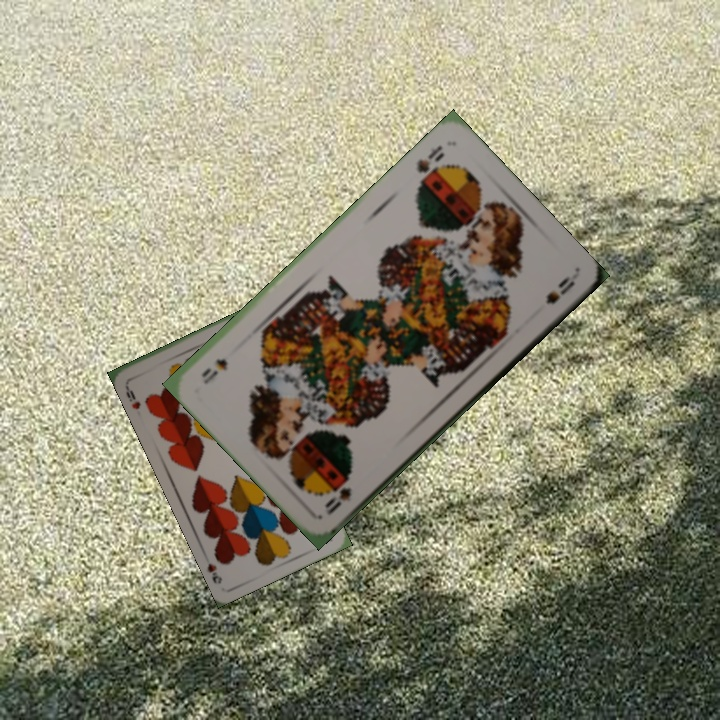H9: (121, 379, 143, 412)
SO: (412, 141, 448, 186), (320, 474, 354, 518)
